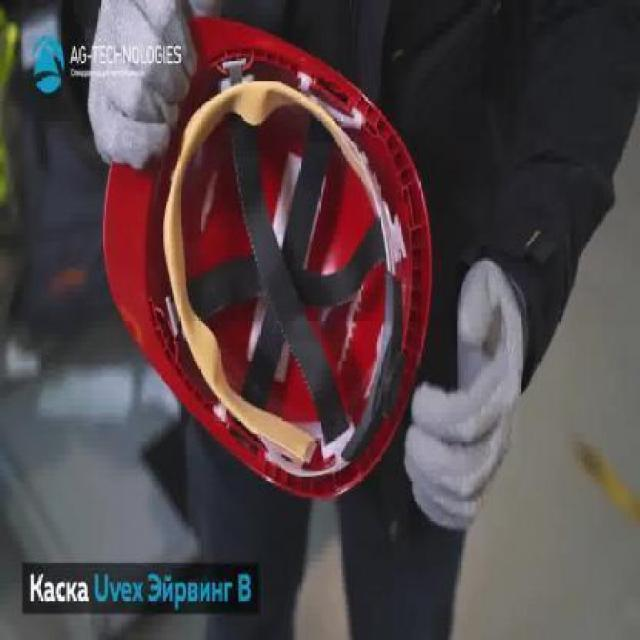Gloves: (400, 255, 525, 534), (87, 0, 216, 174)
Helmet: (100, 0, 433, 505)
